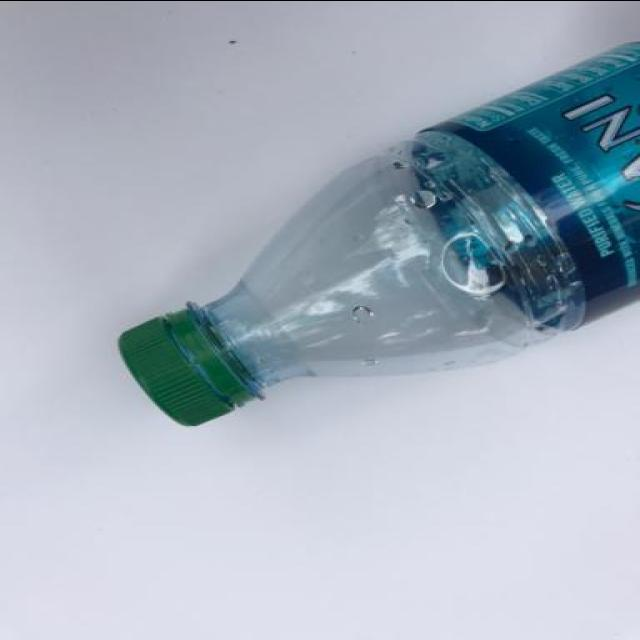PET: (110, 31, 640, 430)
